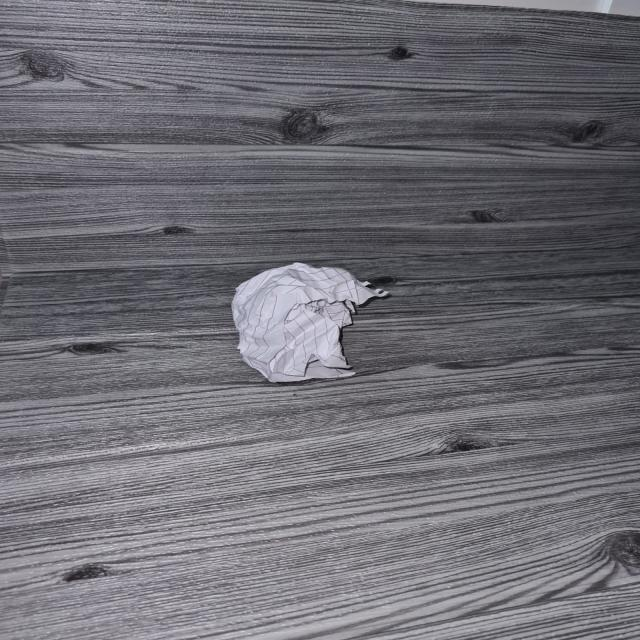Paper: (232, 263, 373, 378)
